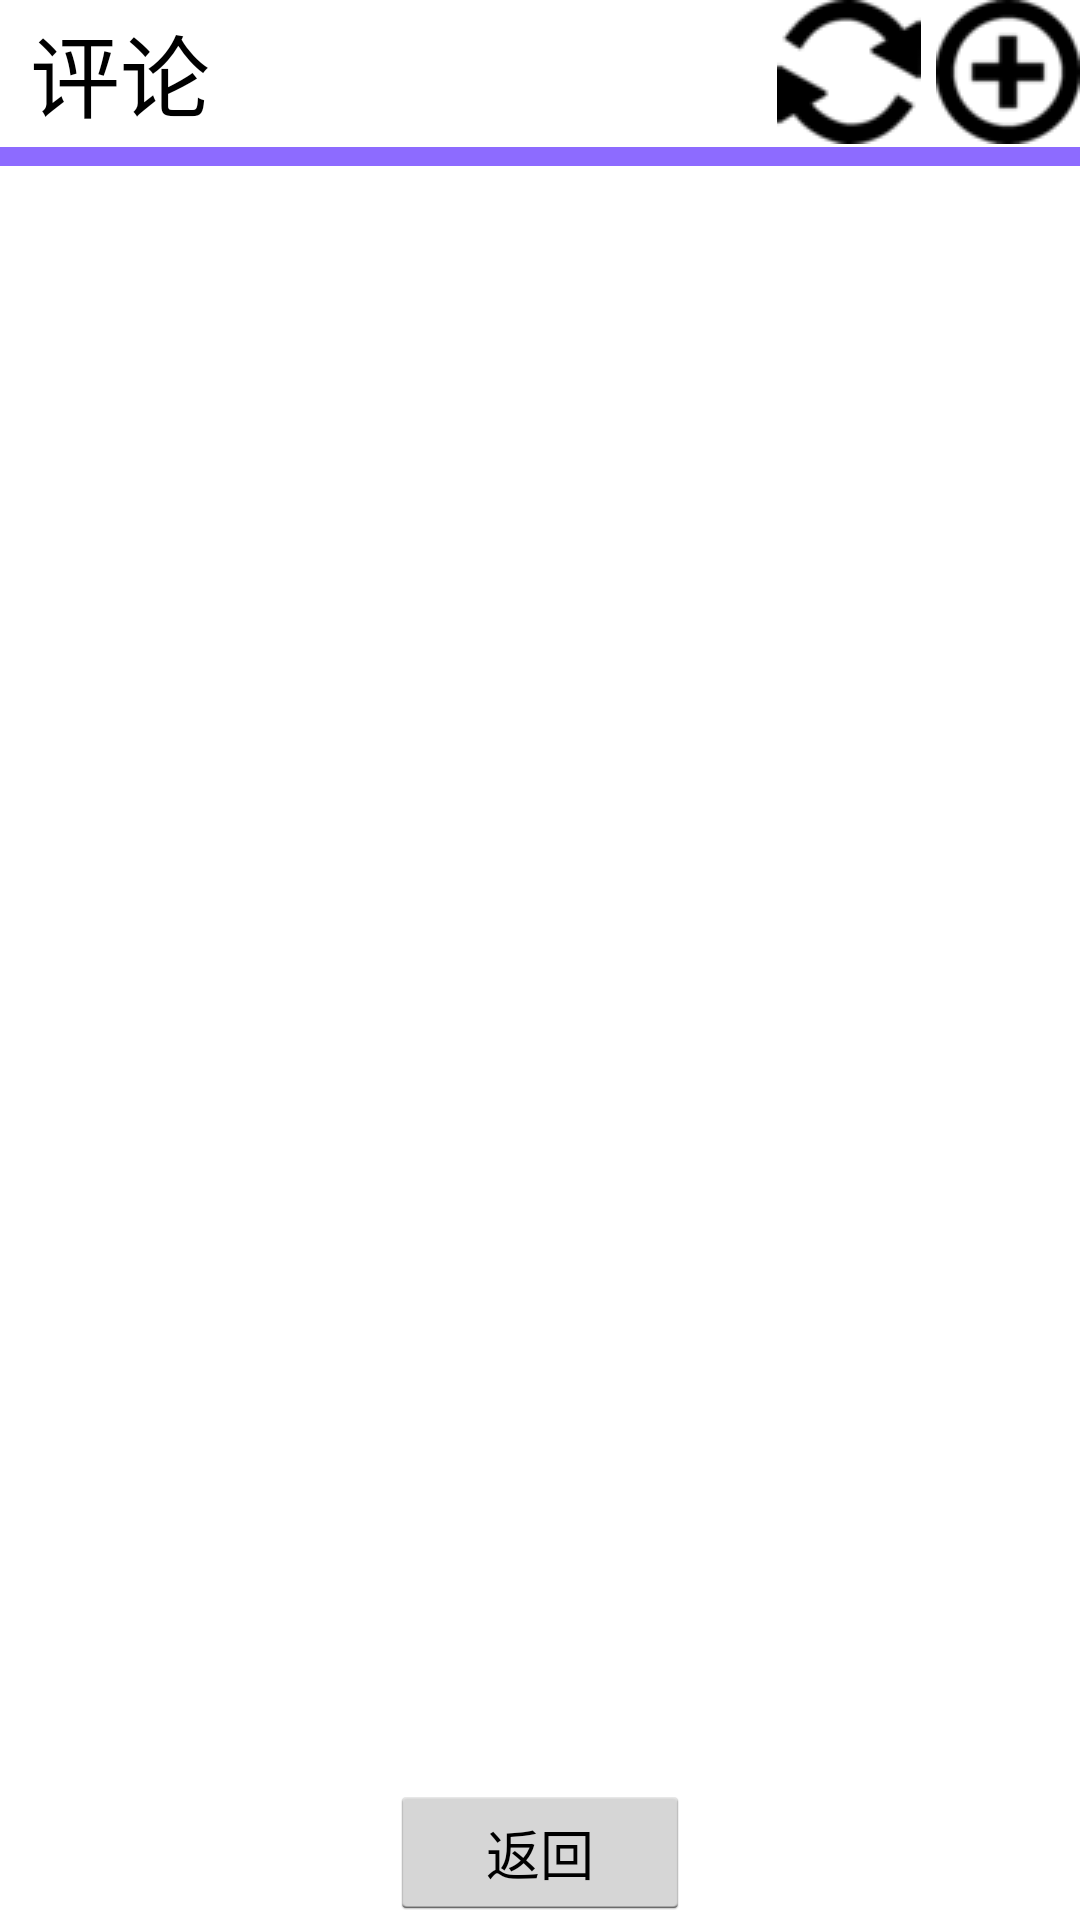

Screen size 1080×1920. Icon name, then its center in pixels as [x,y]:
add: [1008,72]
refresh: [849,72]
